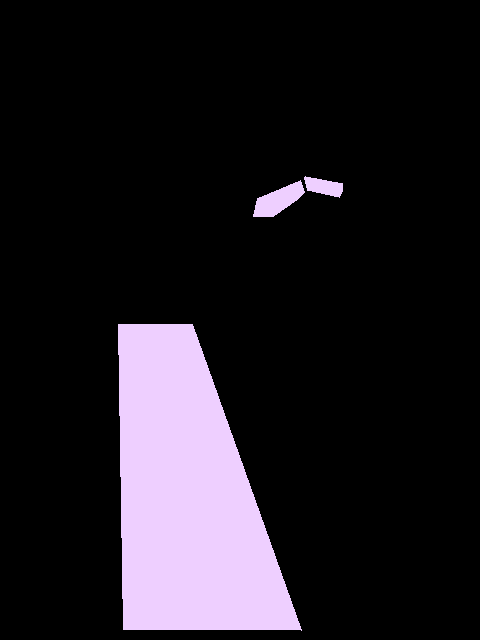Train: (118, 324, 301, 631), (253, 180, 305, 217), (304, 176, 343, 197)
